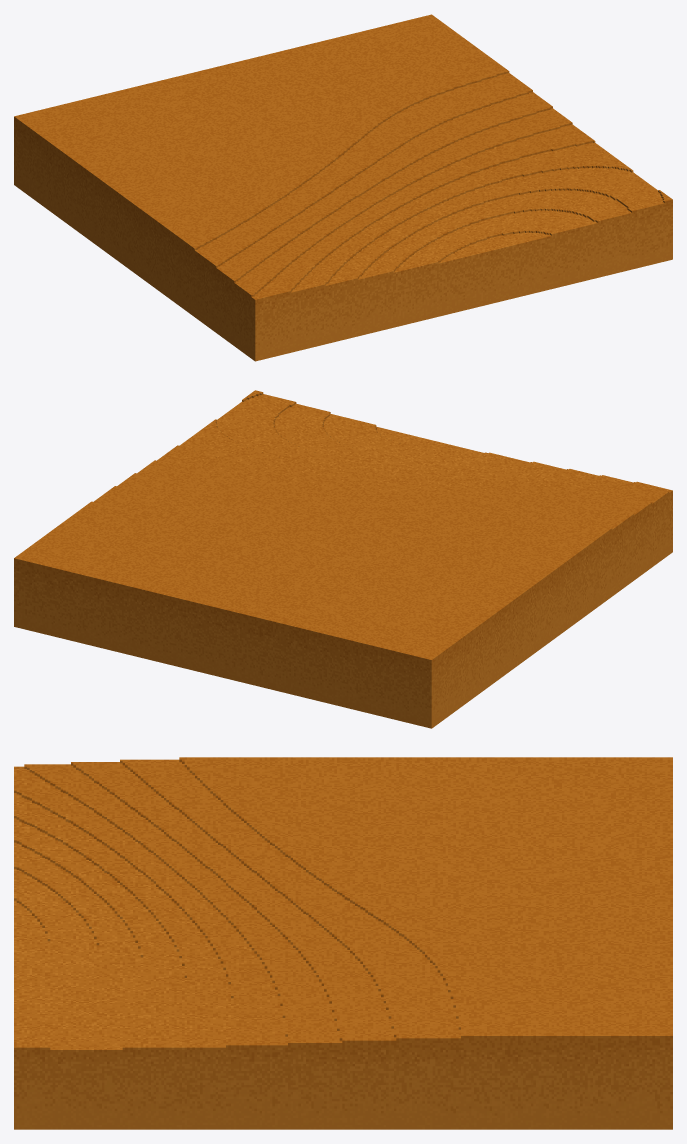
The model's file is Marte-5.obj.
3 views of the same model, one above another, from view 1: azimuth 30°, elevation 25°; view 2: azimuth 150°, elevation 25°; view 3: azimuth 270°, elevation 25° (orthographic). The views are drawn at different scales.
Size of the model in its own units: 25.5 by 4 by 25.5.
1 material, 1 textured.
